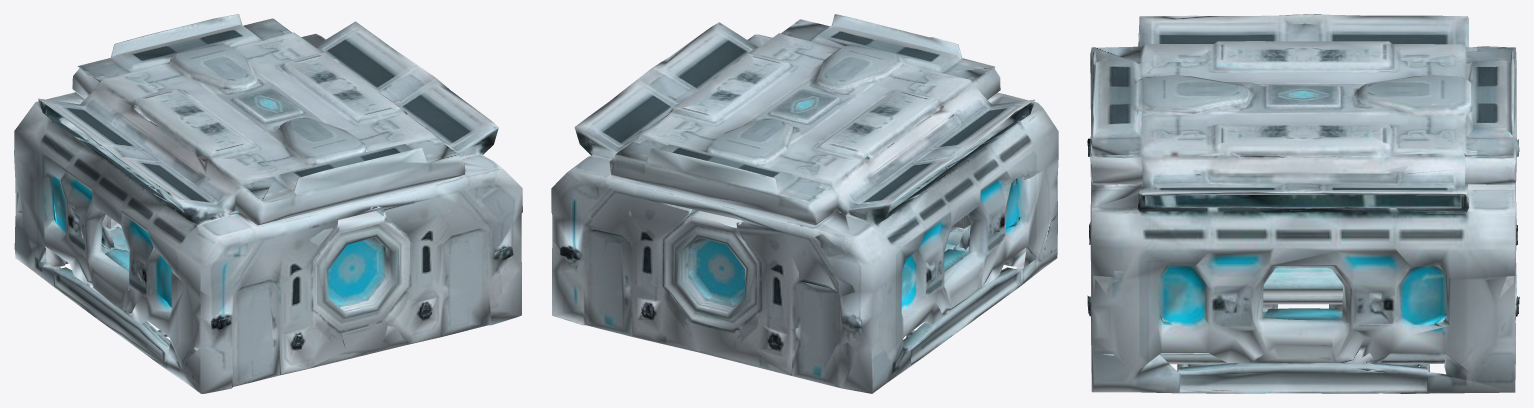
The model's file is station_sick_bay.repacked.glb.
The picture shows the model from 3 angles, left to right: view 1: azimuth 30°, elevation 25°; view 2: azimuth 150°, elevation 25°; view 3: azimuth 270°, elevation 25°; orthographic projection. The views are drawn at different scales.
Visible parts, largest first — view 1: Mesh1.0; view 2: Mesh1.0; view 3: Mesh1.0.
Part boxes in pixels (x1,y1,x2,y2): Mesh1.0: (14,14,522,393); Mesh1.0: (551,14,1058,393); Mesh1.0: (1087,14,1519,393).
Size of the model in its own units: 1.91 by 1.16 by 1.94.
Materials: 1 (1 with a texture image).
